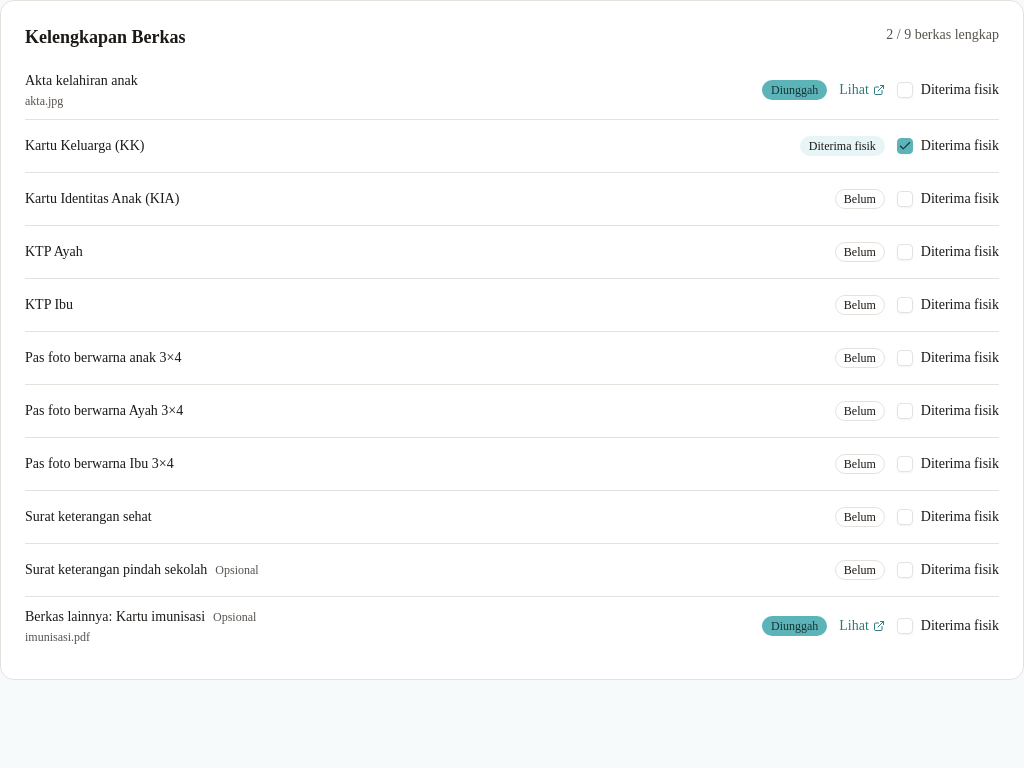
Test: EnrollmentDocumentsCard › PATCHes documentsReceived on toggle and updates optimistically
Click the checkbox named "Diterima fisik: KTP Ayah": (905, 252) [897, 244, 913, 260]
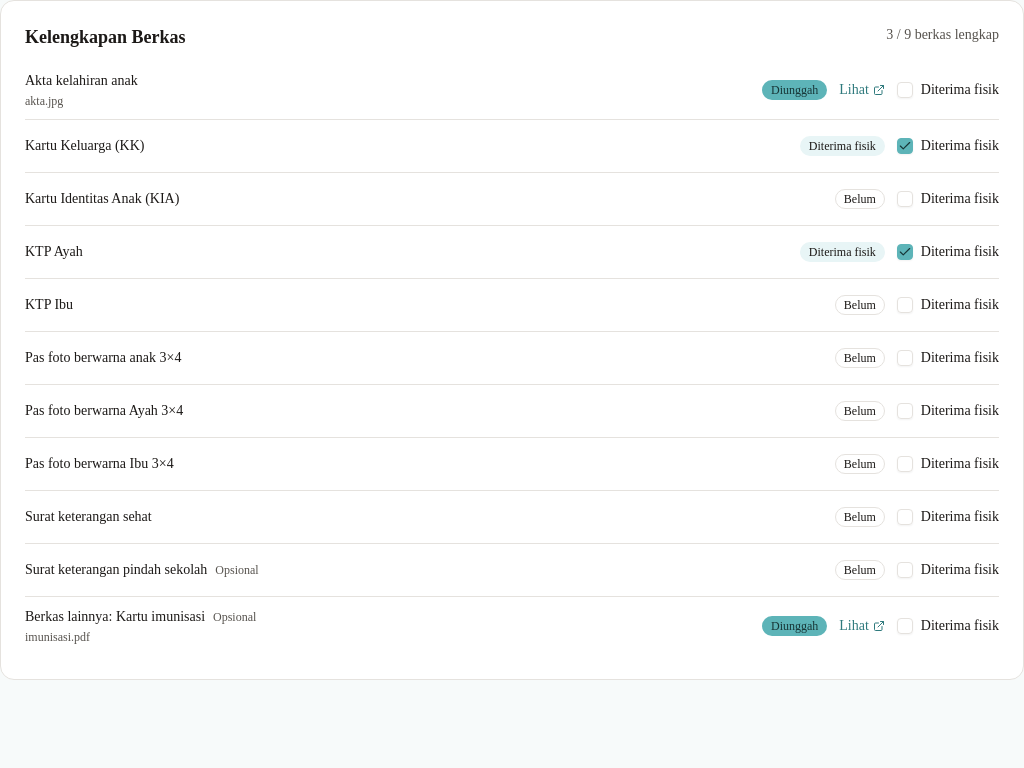
Expected: the text "3 / 9 berkas lengkap" is shown, [886, 25, 999, 45]
